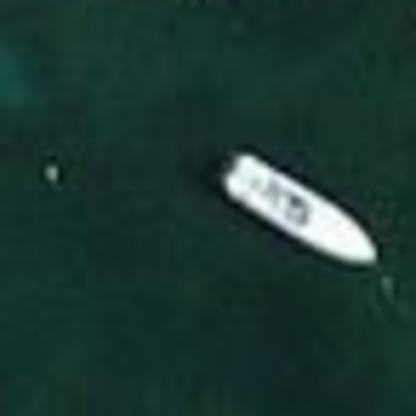ship: (210, 137, 384, 275)
